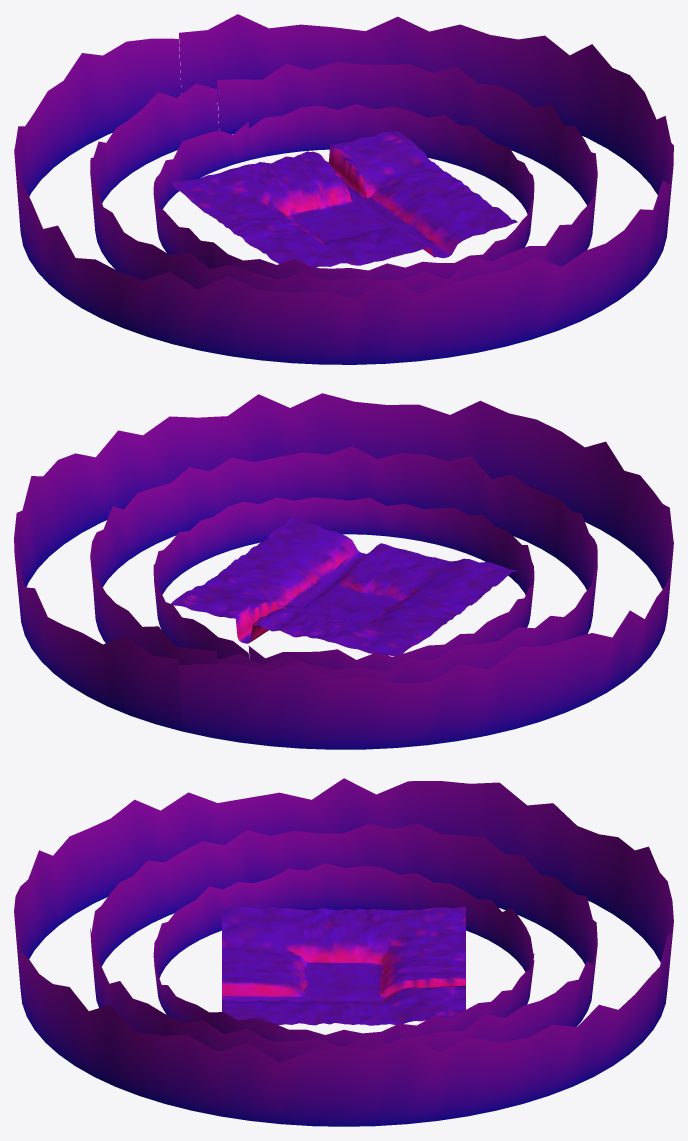
The model's file is tallowford_terrain.glb.
3 renders of one model, top to bottom at view 1: azimuth 30°, elevation 25°; view 2: azimuth 150°, elevation 25°; view 3: azimuth 270°, elevation 25°, orthographic.
Visible parts, largest first — view 1: Ridge_2, Ridge_1, Terrain-col, Ridge_0; view 2: Ridge_2, Ridge_1, Terrain-col, Ridge_0; view 3: Ridge_2, Ridge_1, Terrain-col, Ridge_0.
Part boxes in pixels (box(x1,y1,x2,y2)): Ridge_2: box(14, 14, 673, 364); Ridge_1: box(90, 62, 597, 298); Terrain-col: box(170, 131, 517, 267); Ridge_0: box(153, 104, 534, 280); Ridge_2: box(14, 393, 673, 749); Ridge_1: box(90, 446, 597, 683); Terrain-col: box(171, 518, 517, 656); Ridge_0: box(153, 497, 534, 671); Ridge_2: box(14, 778, 673, 1126); Ridge_1: box(90, 823, 597, 1062); Terrain-col: box(222, 906, 465, 1025); Ridge_0: box(153, 863, 534, 1046).
Bounding box in the file's own units: 520 × 80.11 × 520.
